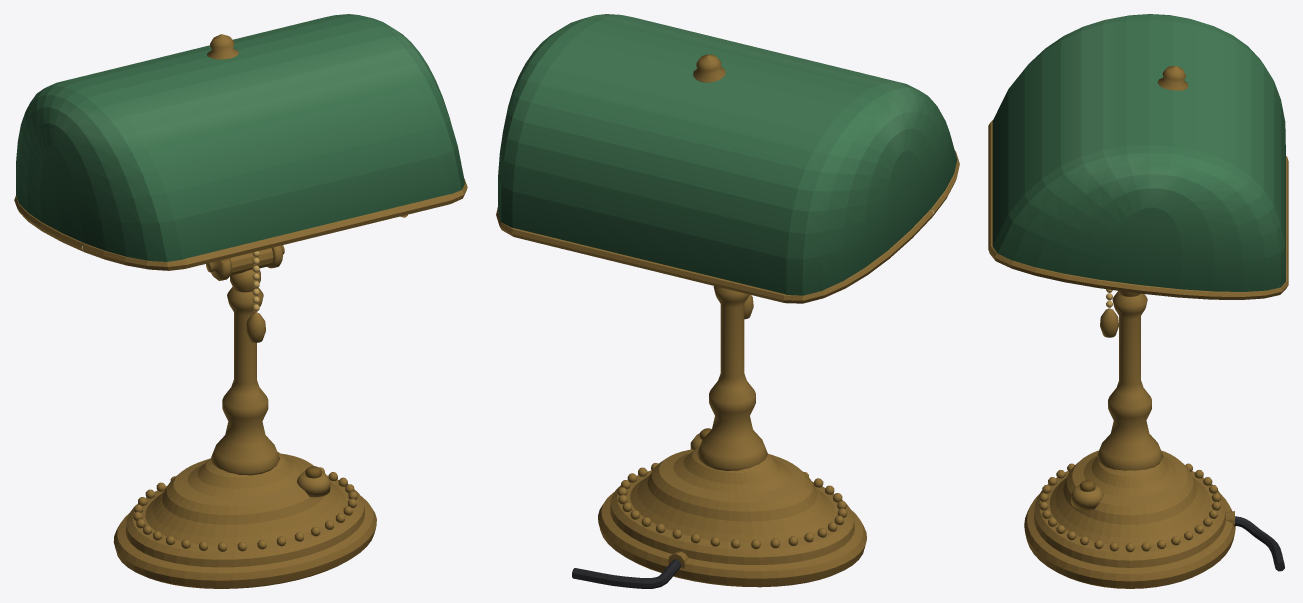
The model's file is banker_lamp.glb.
3 views of the same model, side by side, from view 1: azimuth 30°, elevation 25°; view 2: azimuth 150°, elevation 25°; view 3: azimuth 270°, elevation 25° (orthographic). The views are drawn at different scales.
Visible parts, largest first — view 1: banker_lamp; view 2: banker_lamp; view 3: banker_lamp.
Part boxes in pixels (x1,y1,x2,y2): banker_lamp: [14, 14, 467, 588]; banker_lamp: [496, 14, 959, 588]; banker_lamp: [988, 14, 1288, 588].
Size of the model in its own units: 0.284 by 0.3664 by 0.2121.
